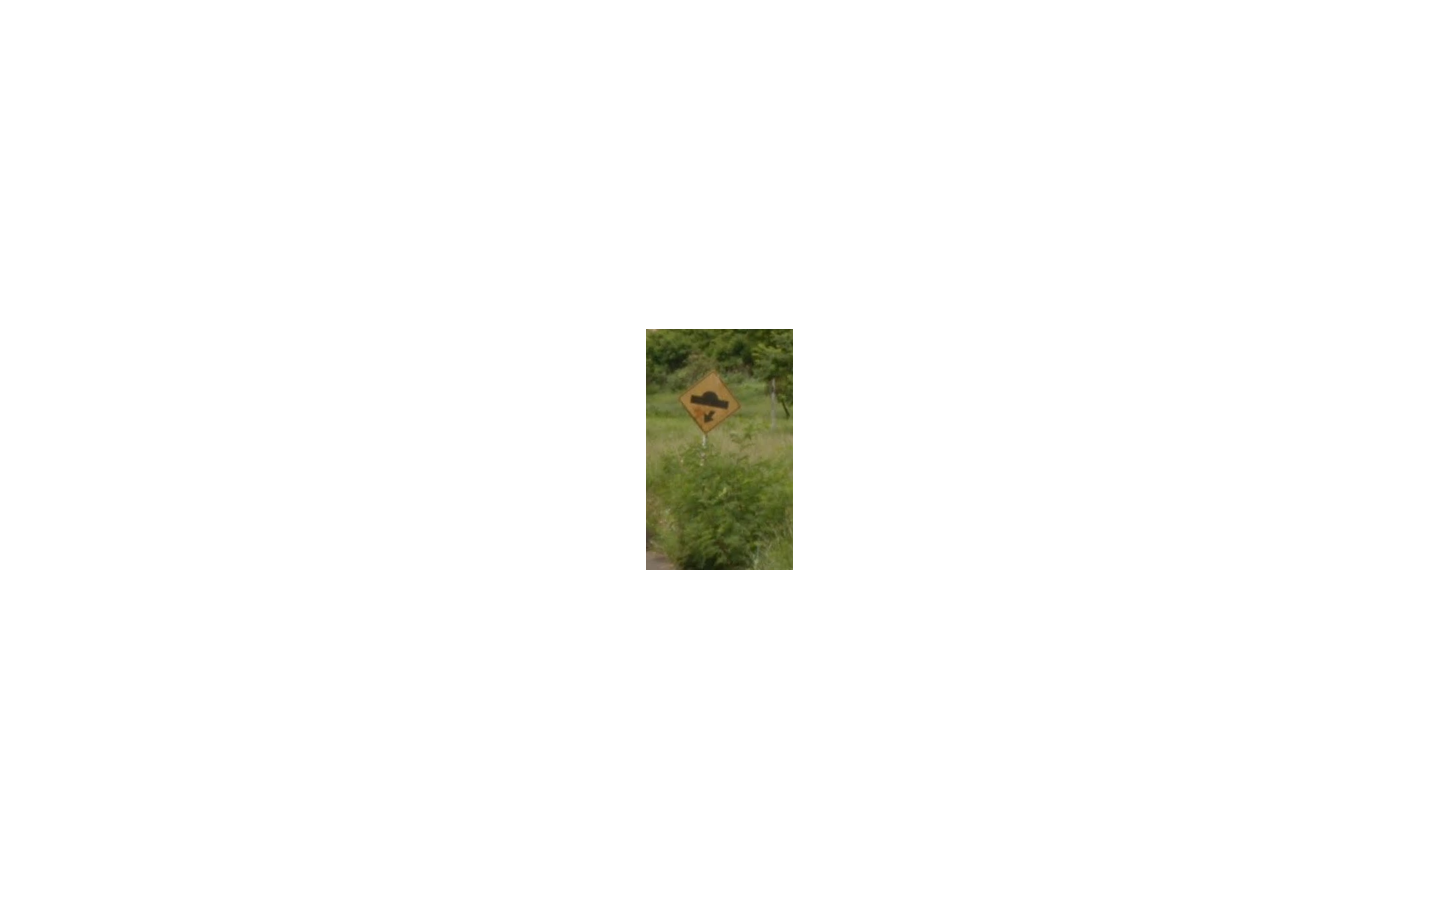lomb: (679, 370, 740, 434)
